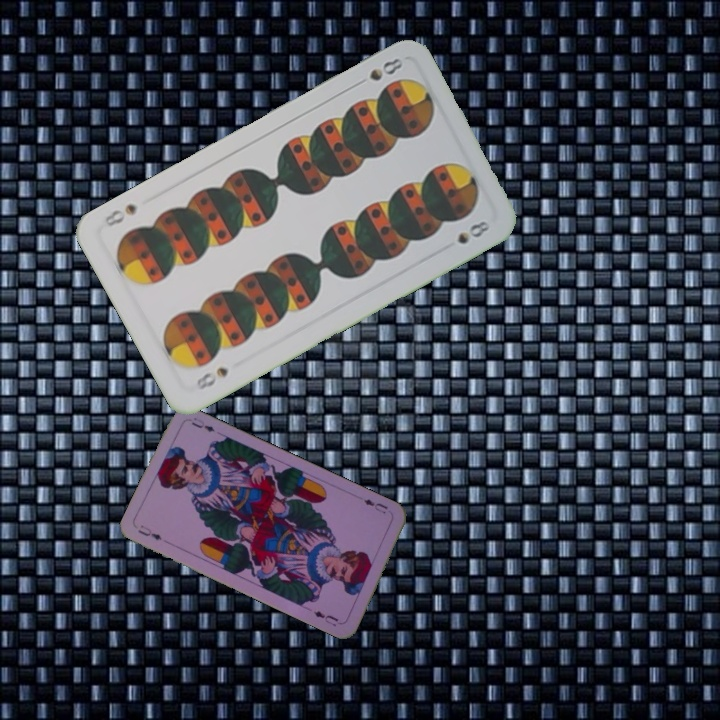EU: (134, 521, 164, 543), (359, 495, 390, 516)
S8: (350, 53, 406, 89), (192, 363, 232, 393)
